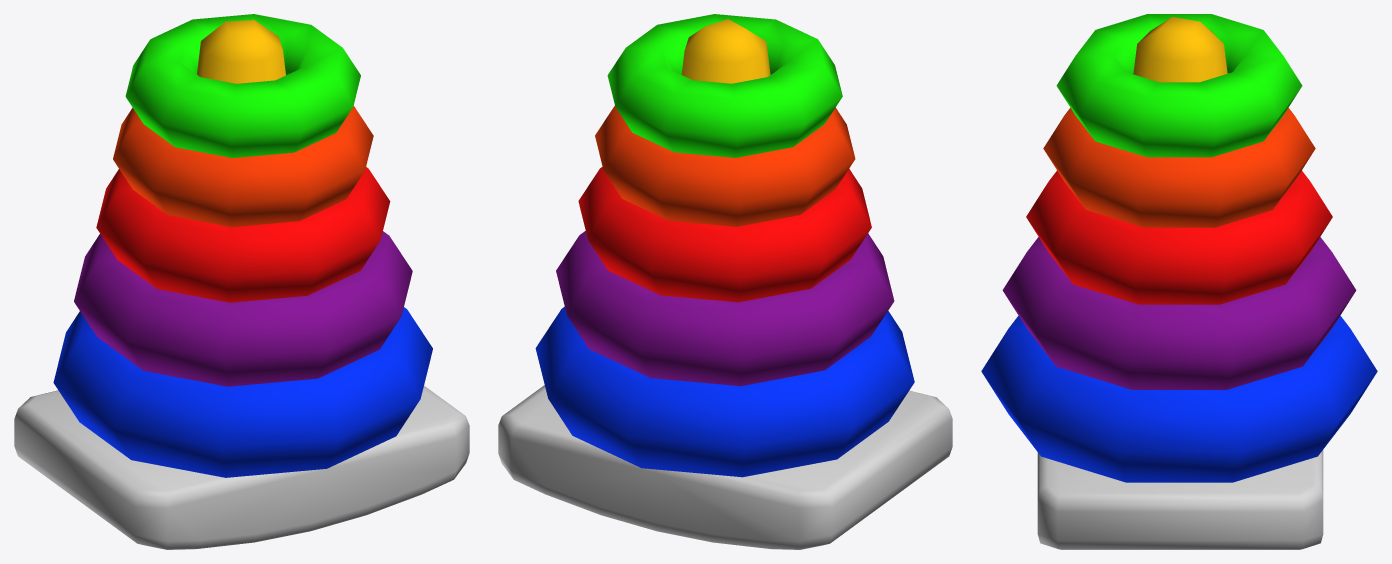
File: ring_game_base_01.FBX
3 renders of one model, left to right at view 1: azimuth 30°, elevation 25°; view 2: azimuth 150°, elevation 25°; view 3: azimuth 270°, elevation 25°, orthographic. The views are drawn at different scales.
Parts seen in each view (by area): view 1: ring_game_base_01, ring_game_ring_blue_01, ring_game_ring_purple_01, ring_game_ring_red_01, ring_game_ring_green_01, ring_game_ring_orange_01; view 2: ring_game_base_01, ring_game_ring_blue_01, ring_game_ring_purple_01, ring_game_ring_red_01, ring_game_ring_green_01, ring_game_ring_orange_01; view 3: ring_game_ring_blue_01, ring_game_ring_purple_01, ring_game_base_01, ring_game_ring_red_01, ring_game_ring_green_01, ring_game_ring_orange_01.
Part boxes in pixels (box(x1,y1,x2,y2)): ring_game_base_01: box(14, 20, 469, 549); ring_game_ring_blue_01: box(53, 307, 432, 477); ring_game_ring_purple_01: box(74, 231, 412, 386); ring_game_ring_red_01: box(96, 167, 390, 302); ring_game_ring_green_01: box(125, 14, 360, 157); ring_game_ring_orange_01: box(113, 106, 373, 227); ring_game_base_01: box(498, 19, 952, 549); ring_game_ring_blue_01: box(535, 306, 914, 477); ring_game_ring_purple_01: box(556, 231, 894, 386); ring_game_ring_red_01: box(578, 167, 871, 302); ring_game_ring_green_01: box(607, 14, 842, 157); ring_game_ring_orange_01: box(595, 106, 855, 226); ring_game_ring_blue_01: box(981, 316, 1377, 482); ring_game_ring_purple_01: box(1002, 237, 1356, 389); ring_game_base_01: box(1037, 17, 1323, 549); ring_game_ring_red_01: box(1026, 170, 1332, 304); ring_game_ring_green_01: box(1056, 14, 1302, 157); ring_game_ring_orange_01: box(1043, 108, 1315, 227).
Bounding box in the file's own units: 1308 × 1708 × 1314.
